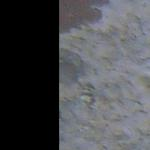alive: (64, 9, 144, 146)
